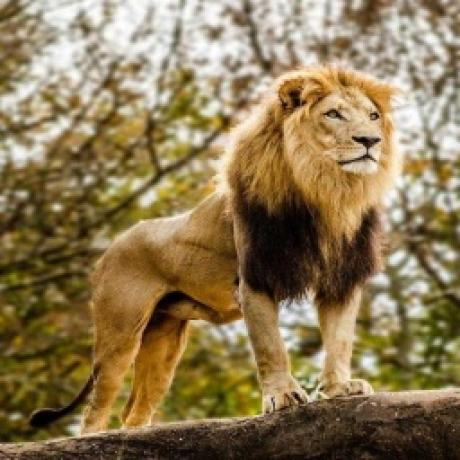Lion: (26, 65, 399, 431)
